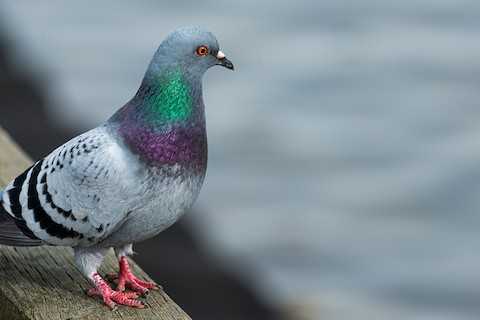pigeon: (8, 25, 236, 303)
